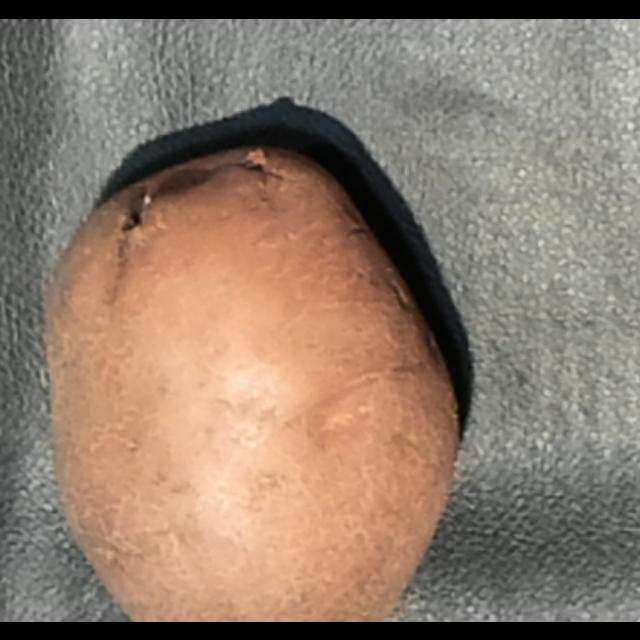Diseased-fungal potato: (39, 124, 474, 622)
